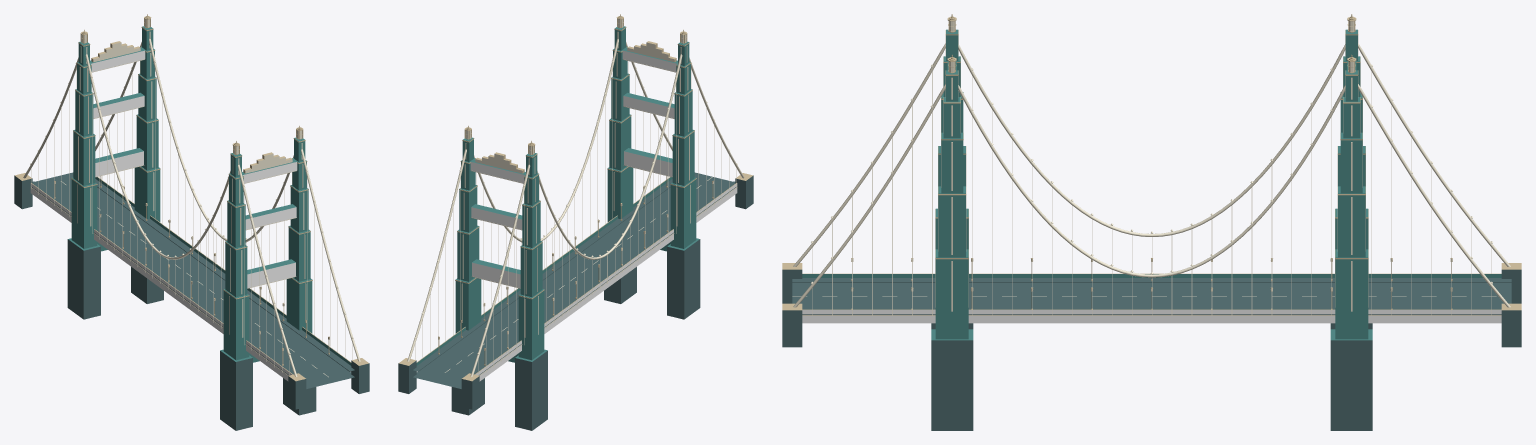
File: KC32__AD_Ext_Bridge_Suspension.glb
The picture shows the model from 3 angles, left to right: view 1: azimuth 30°, elevation 25°; view 2: azimuth 150°, elevation 25°; view 3: azimuth 270°, elevation 25°; orthographic projection. The views are drawn at different scales.
Visible parts, largest first — view 1: KC32_CORPS__AD_Ext_Bridge_Suspension, KC32_LUMIERE__AD_Ext_Bridge_Suspension, KC32_ACCENT__AD_Ext_Bridge_Suspension, KC32_BRONZE__AD_Ext_Bridge_Suspension; view 2: KC32_CORPS__AD_Ext_Bridge_Suspension, KC32_LUMIERE__AD_Ext_Bridge_Suspension, KC32_ACCENT__AD_Ext_Bridge_Suspension, KC32_BRONZE__AD_Ext_Bridge_Suspension; view 3: KC32_CORPS__AD_Ext_Bridge_Suspension, KC32_LUMIERE__AD_Ext_Bridge_Suspension, KC32_ACCENT__AD_Ext_Bridge_Suspension, KC32_BRONZE__AD_Ext_Bridge_Suspension.
Part boxes in pixels (<box>): KC32_CORPS__AD_Ext_Bridge_Suspension: <box>14,26,369,430</box>; KC32_LUMIERE__AD_Ext_Bridge_Suspension: <box>23,19,360,377</box>; KC32_ACCENT__AD_Ext_Bridge_Suspension: <box>30,50,351,381</box>; KC32_BRONZE__AD_Ext_Bridge_Suspension: <box>15,14,368,381</box>; KC32_CORPS__AD_Ext_Bridge_Suspension: <box>398,26,753,430</box>; KC32_LUMIERE__AD_Ext_Bridge_Suspension: <box>407,19,744,376</box>; KC32_ACCENT__AD_Ext_Bridge_Suspension: <box>416,50,737,381</box>; KC32_BRONZE__AD_Ext_Bridge_Suspension: <box>399,14,752,381</box>; KC32_CORPS__AD_Ext_Bridge_Suspension: <box>782,29,1521,430</box>; KC32_LUMIERE__AD_Ext_Bridge_Suspension: <box>792,21,1510,315</box>; KC32_ACCENT__AD_Ext_Bridge_Suspension: <box>802,310,1501,323</box>; KC32_BRONZE__AD_Ext_Bridge_Suspension: <box>782,14,1521,310</box>.
Bounding box in the file's own units: 24.4 × 81.94 × 148.
